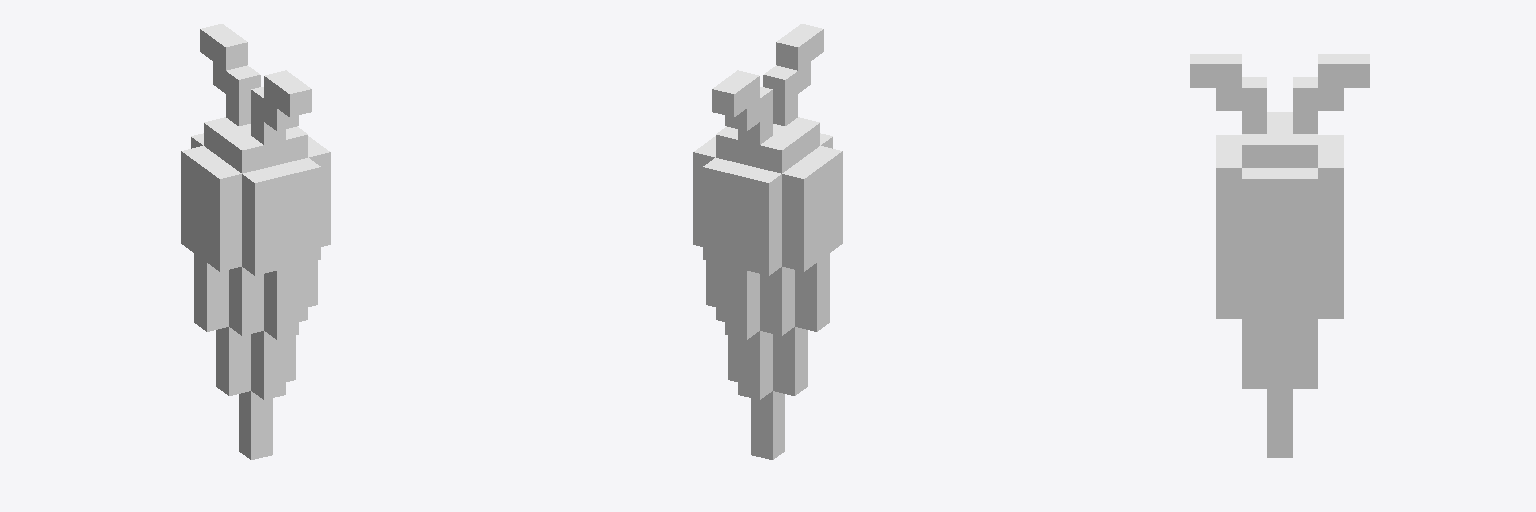
The model's file is avuc.obj.
The picture shows the model from 3 angles: view 1: azimuth 30°, elevation 25°; view 2: azimuth 150°, elevation 25°; view 3: azimuth 270°, elevation 25°; orthographic projection.
Size of the model in its own units: 5 by 17 by 7.